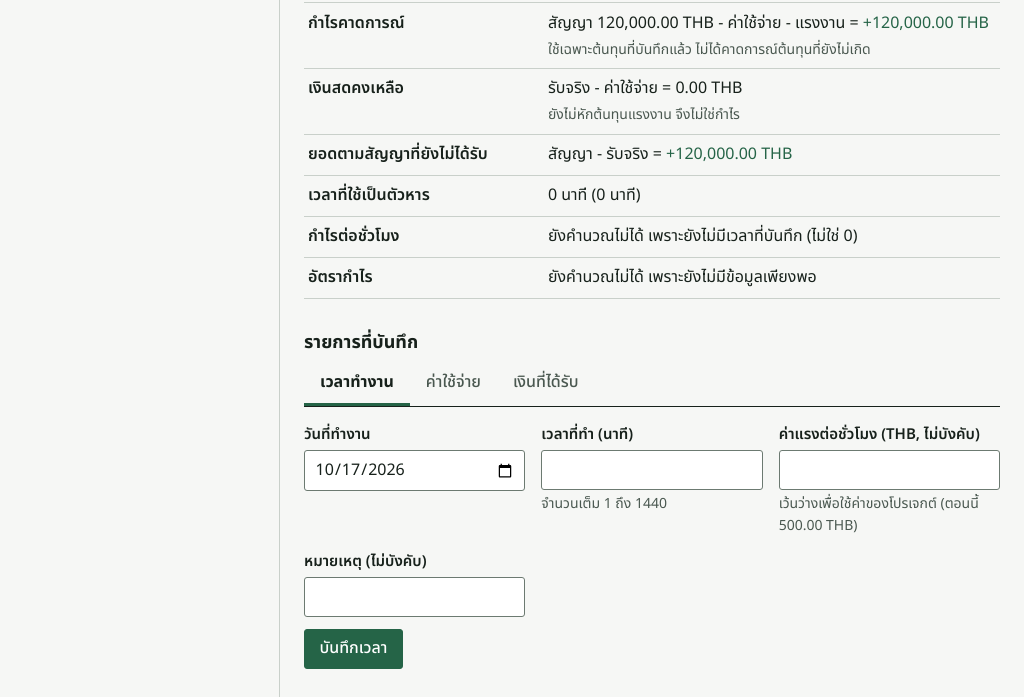
Test: ProfitApp › keeps form data after a failed save and reuses the idempotency key on explicit retry only
(page scrolled)
Click the tab "ค่าใช้จ่าย" at (453, 384), box [410, 362, 497, 406]
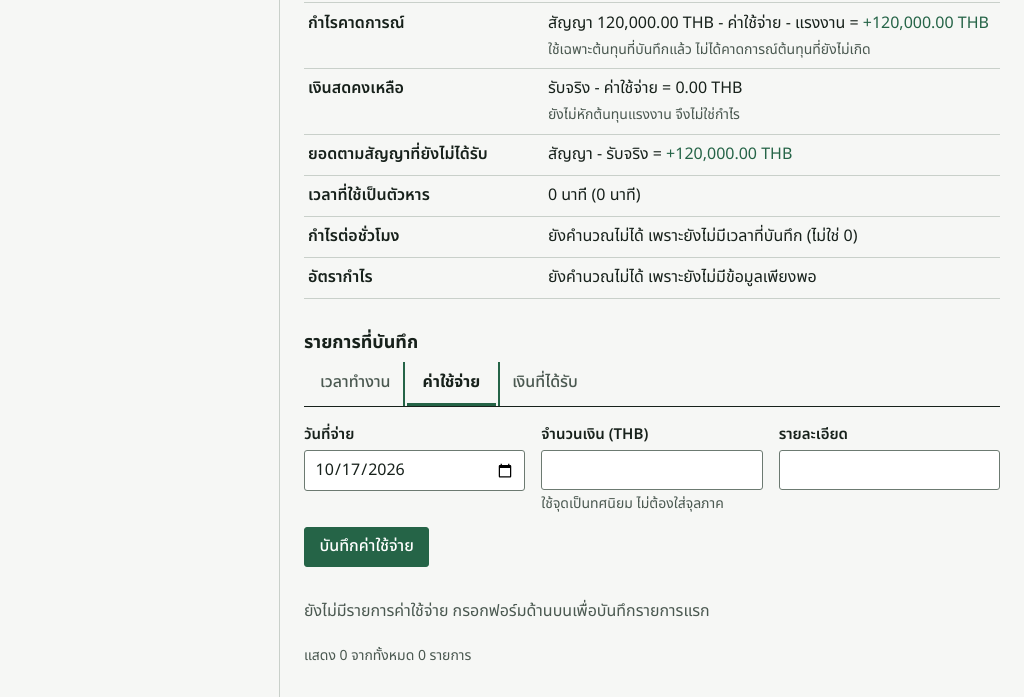
Type "300" into the field labelled "จำนวนเงิน (THB)" at (652, 470), box [541, 450, 763, 490]
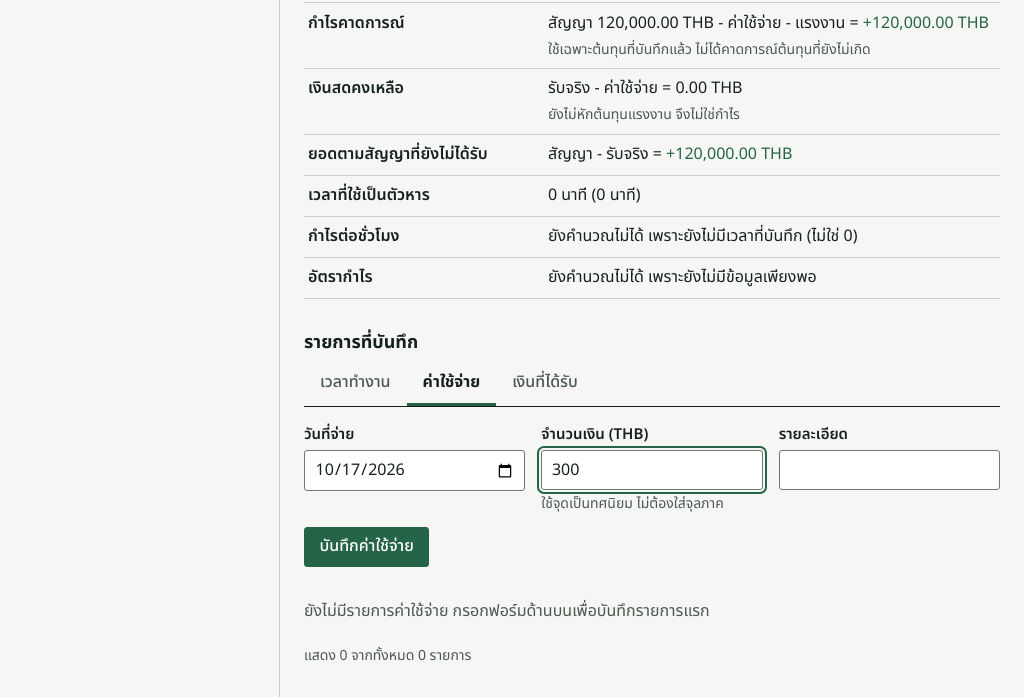
Type "SYNTHETIC โดเมน" into the field labelled "รายละเอียด" at (889, 470), box [779, 450, 1000, 490]
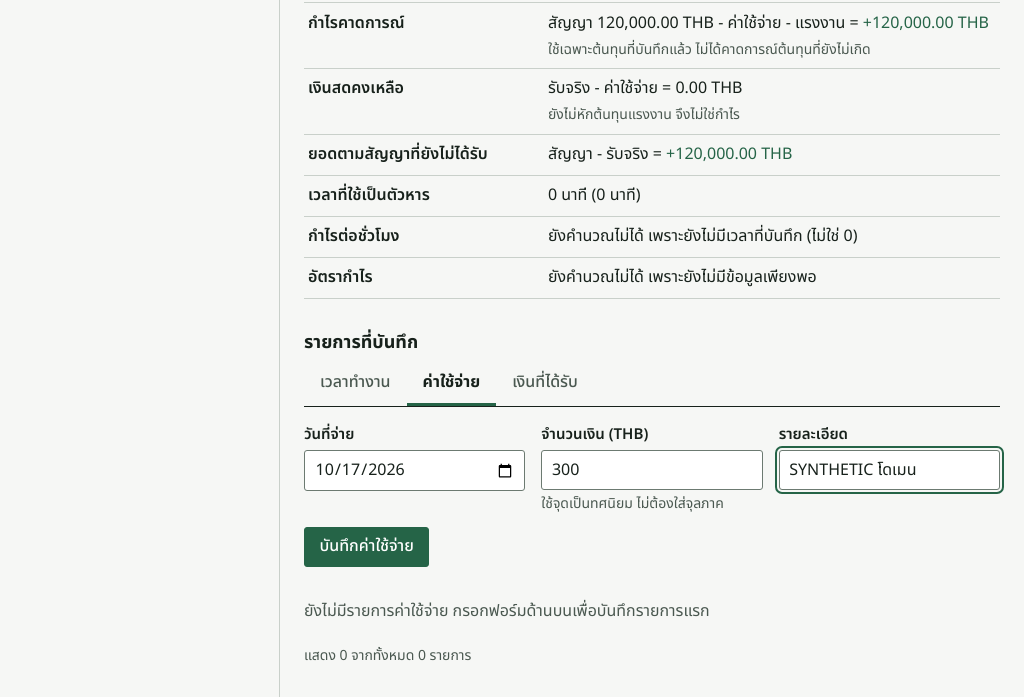
Click the button "บันทึกค่าใช้จ่าย" at (367, 547), box [304, 527, 429, 567]
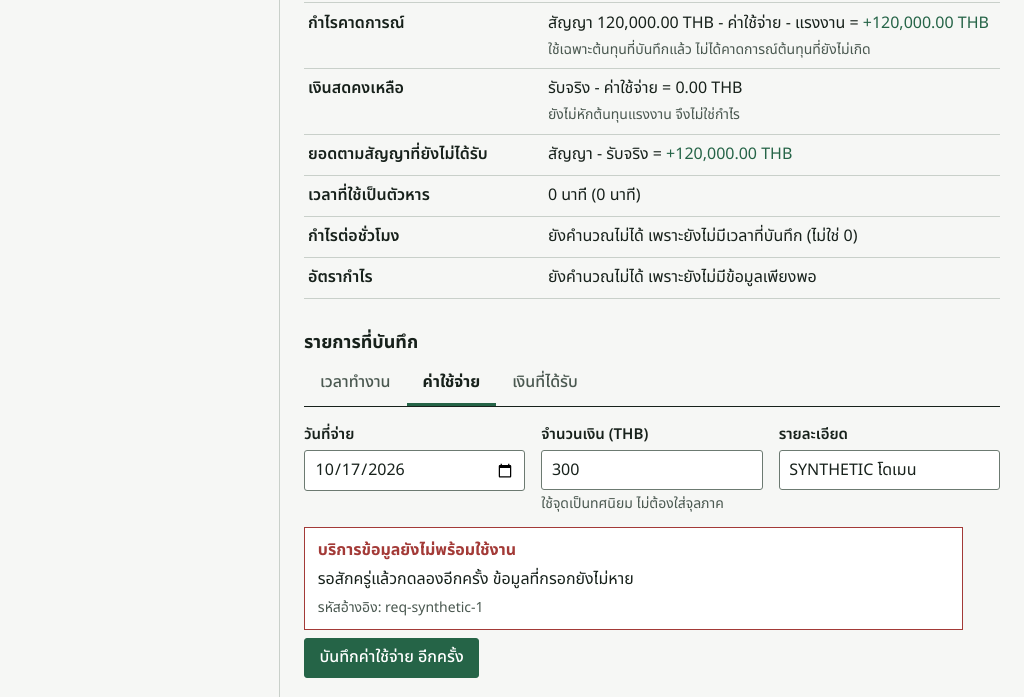
expect the message that starts with "บริการข้อมูลยังไม่พร้อมใช้งาน" is shown: met, box [318, 538, 516, 562]
Click the button "บันทึกค่าใช้จ่าย อีกครั้ง" at (392, 658), box [304, 638, 479, 678]
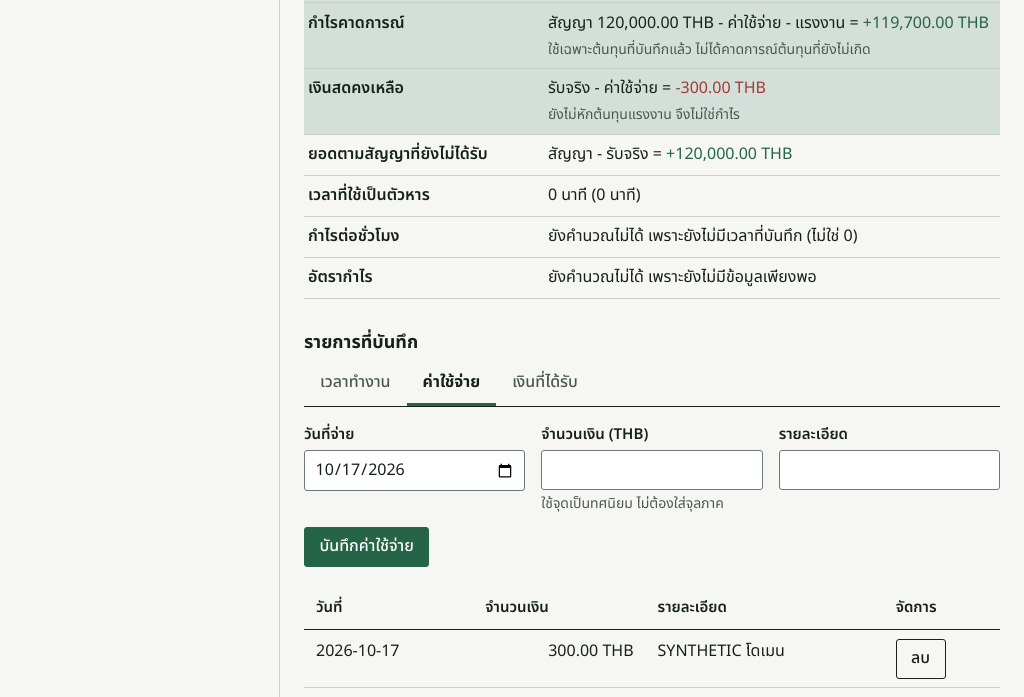
expect the text "SYNTHETIC โดเมน" is shown: met, box [646, 630, 884, 688]
